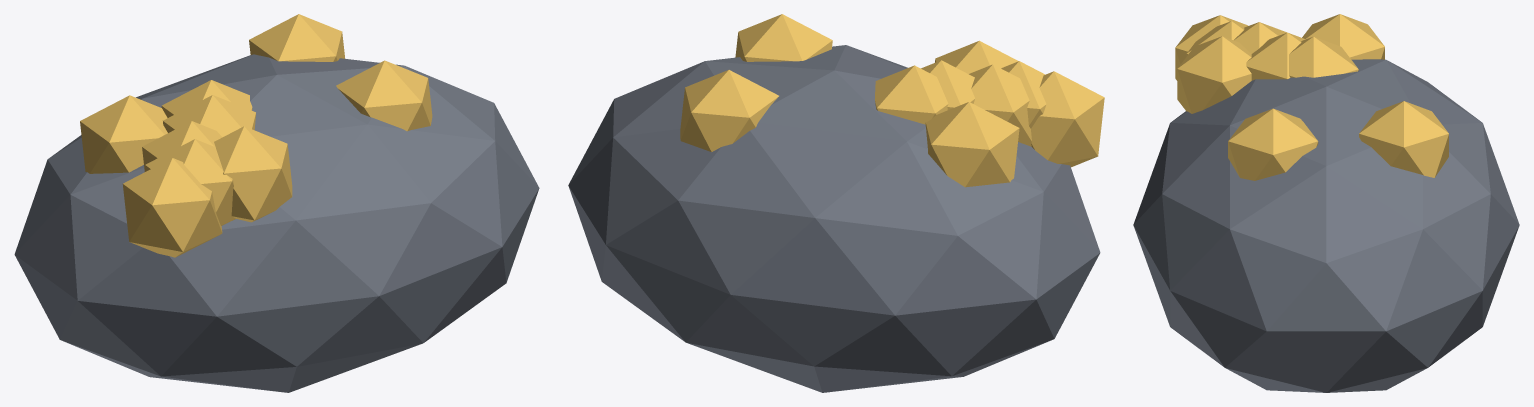
File: resource_ore_gold.glb
3 views of the same model, side by side, from view 1: azimuth 30°, elevation 25°; view 2: azimuth 150°, elevation 25°; view 3: azimuth 270°, elevation 25° (orthographic). The views are drawn at different scales.
Visible parts, largest first — view 1: RareOreBoulder, gold mineral cluster.007, gold mineral cluster.008, gold mineral cluster.004, gold mineral cluster.005, gold mineral cluster.006, gold mineral cluster.003, gold mineral cluster.001, gold mineral cluster, gold mineral cluster.002; view 2: RareOreBoulder, gold mineral cluster.004, gold mineral cluster.006, gold mineral cluster.007, gold mineral cluster.005, gold mineral cluster.002, gold mineral cluster, gold mineral cluster.008, gold mineral cluster.001, gold mineral cluster.003; view 3: RareOreBoulder, gold mineral cluster.006, gold mineral cluster.005, gold mineral cluster.008, gold mineral cluster.004, gold mineral cluster.002, gold mineral cluster.001, gold mineral cluster.007, gold mineral cluster, gold mineral cluster.003.
Boxes of the visible parts, left/top/right/bottom form: RareOreBoulder: left=14, top=54, right=539, bottom=392; gold mineral cluster.007: left=122, top=158, right=222, bottom=257; gold mineral cluster.008: left=214, top=126, right=292, bottom=222; gold mineral cluster.004: left=80, top=95, right=167, bottom=173; gold mineral cluster.005: left=336, top=60, right=432, bottom=131; gold mineral cluster.006: left=249, top=14, right=345, bottom=61; gold mineral cluster.003: left=145, top=139, right=235, bottom=225; gold mineral cluster.001: left=163, top=95, right=255, bottom=137; gold mineral cluster: left=142, top=121, right=222, bottom=171; gold mineral cluster.002: left=161, top=80, right=252, bottom=117; RareOreBoulder: left=568, top=45, right=1100, bottom=392; gold mineral cluster.004: left=925, top=102, right=1019, bottom=187; gold mineral cluster.006: left=680, top=70, right=778, bottom=151; gold mineral cluster.007: left=1031, top=71, right=1104, bottom=167; gold mineral cluster.005: left=735, top=14, right=832, bottom=61; gold mineral cluster.002: left=874, top=65, right=948, bottom=124; gold mineral cluster: left=969, top=64, right=1031, bottom=146; gold mineral cluster.008: left=935, top=40, right=1018, bottom=73; gold mineral cluster.001: left=921, top=60, right=975, bottom=109; gold mineral cluster.003: left=1001, top=61, right=1046, bottom=128; RareOreBoulder: left=1133, top=59, right=1519, bottom=392; gold mineral cluster.006: left=1359, top=101, right=1448, bottom=177; gold mineral cluster.005: left=1228, top=108, right=1318, bottom=180; gold mineral cluster.008: left=1177, top=36, right=1251, bottom=113; gold mineral cluster.004: left=1302, top=14, right=1384, bottom=59; gold mineral cluster.002: left=1289, top=36, right=1358, bottom=77; gold mineral cluster.001: left=1246, top=32, right=1305, bottom=80; gold mineral cluster.007: left=1175, top=15, right=1248, bottom=80; gold mineral cluster: left=1234, top=22, right=1286, bottom=53; gold mineral cluster.003: left=1186, top=21, right=1246, bottom=55.
Bounding box in the file's own units: 1.62 × 1.04 × 1.24.
